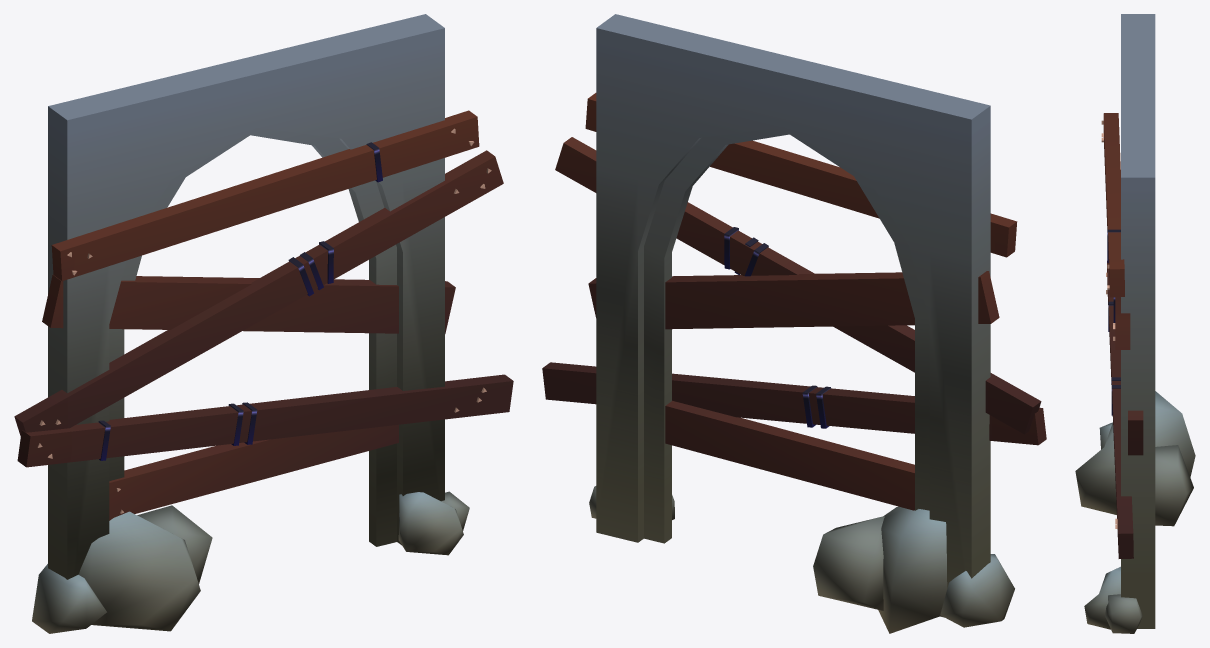
The model's file is WRLD_BLEND_ASSET_BREAKABLE_DOOR.fbx.
3 renders of one model, left to right at view 1: azimuth 30°, elevation 25°; view 2: azimuth 150°, elevation 25°; view 3: azimuth 270°, elevation 25°, orthographic. The views are drawn at different scales.
Visible parts, largest first — view 1: rock.001, Cube.029, Cube.033, Cube.035, Cylinder.016, Cylinder.009; view 2: rock.001, Cylinder.016, Cube.033, Cylinder.009, Cube.029, Cube.035; view 3: rock.001, Cube.035, Cube.033, Cube.029, Cylinder.016.
Part boxes in pixels (x1,y1,x2,y2): rock.001: (32,14,469,633); Cube.029: (14,150,503,436); Cube.033: (17,374,513,467); Cube.035: (51,110,479,281); Cylinder.016: (42,275,455,333); Cylinder.009: (109,424,398,520); rock.001: (589,14,1014,633); Cylinder.016: (588,271,999,329); Cube.033: (542,362,1046,445); Cylinder.009: (665,400,914,510); Cube.029: (555,137,1041,434); Cube.035: (585,93,1017,257); rock.001: (1075,14,1195,633); Cube.035: (1101,113,1124,297); Cube.033: (1106,261,1133,558); Cube.029: (1113,297,1130,349); Cylinder.016: (1128,410,1143,455).
Size of the model in its own units: 340 by 343 by 80.66.
